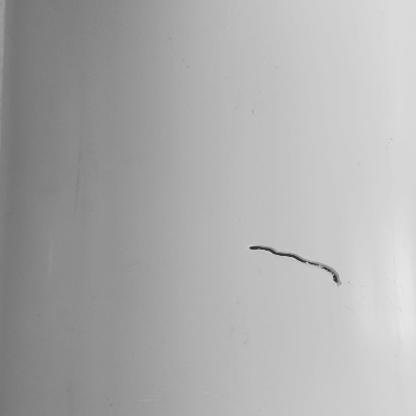fengxi: (248, 245, 343, 286)
